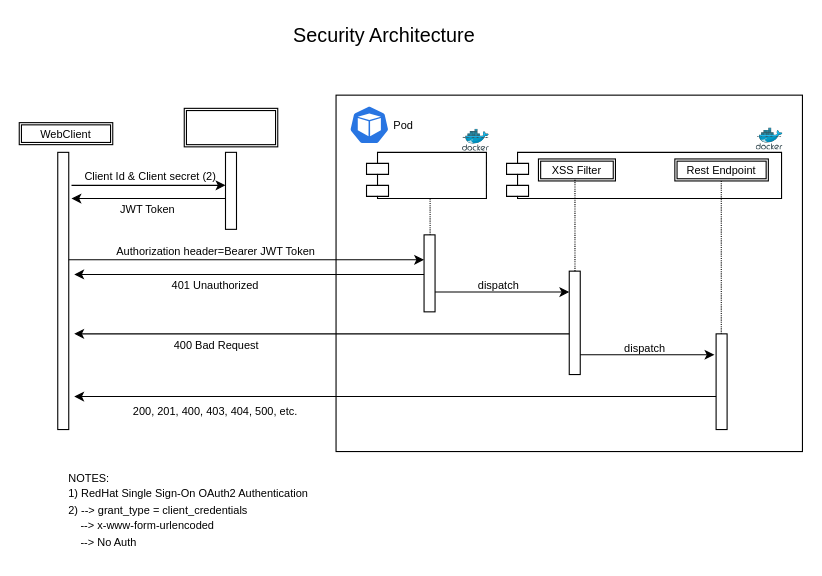
Some shapes in this 822 by 576 pixel diagram are drawn without their labels. Here are the shapes that lost their labels. From the top down, the box of each, then its label:
(183, 107, 278, 147): Authentication Service (1)
(365, 151, 486, 199): Sidecar token validation
